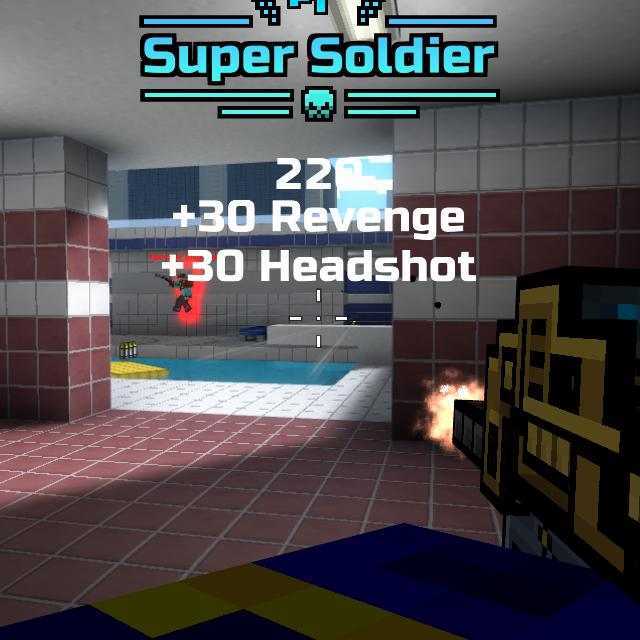Enemy: (170, 268, 195, 313)
